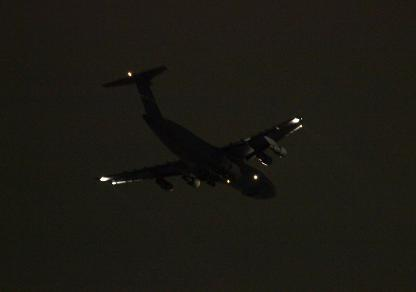C17: (92, 64, 302, 198)
